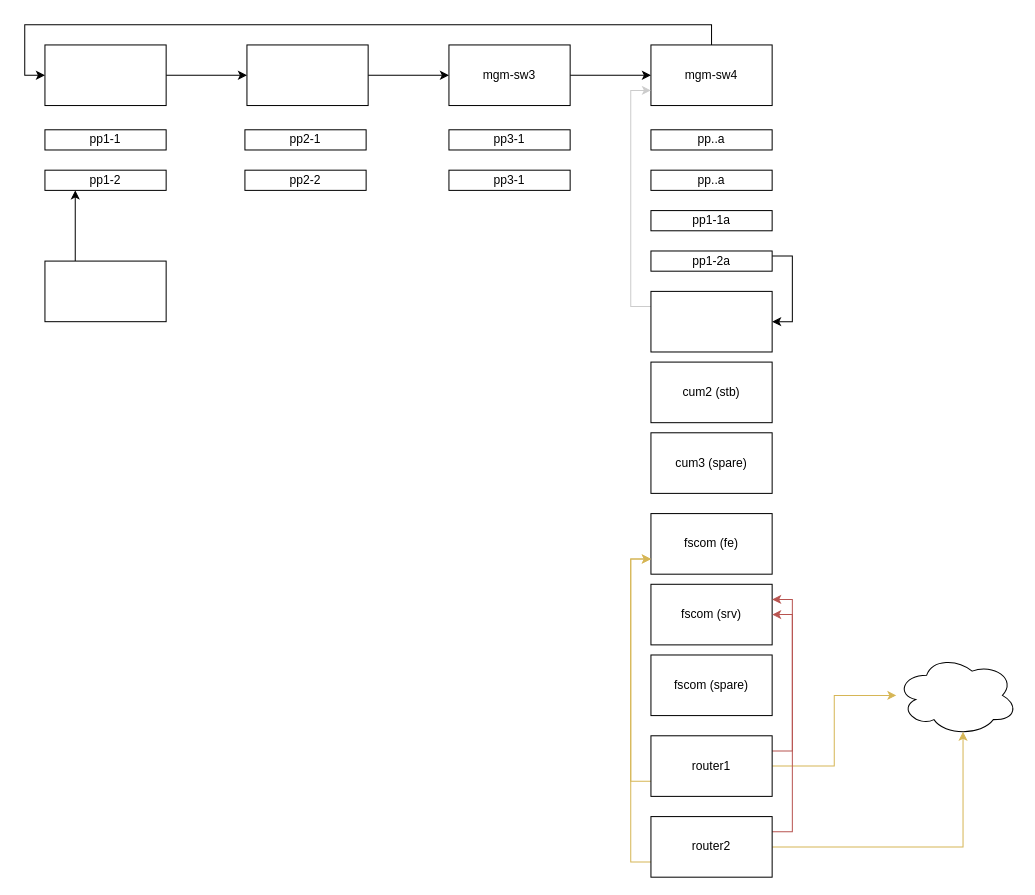
Image size: 1035x895. Some labels were removed from this diagram. The box of each missing label's shape, as (x1, y1, x2, y2) in pixels:
cartman06: (44, 260, 166, 322)
cum1 (sto): (650, 290, 772, 352)
mgm-sw1: (44, 44, 166, 106)
mgm-sw2: (246, 44, 368, 106)
